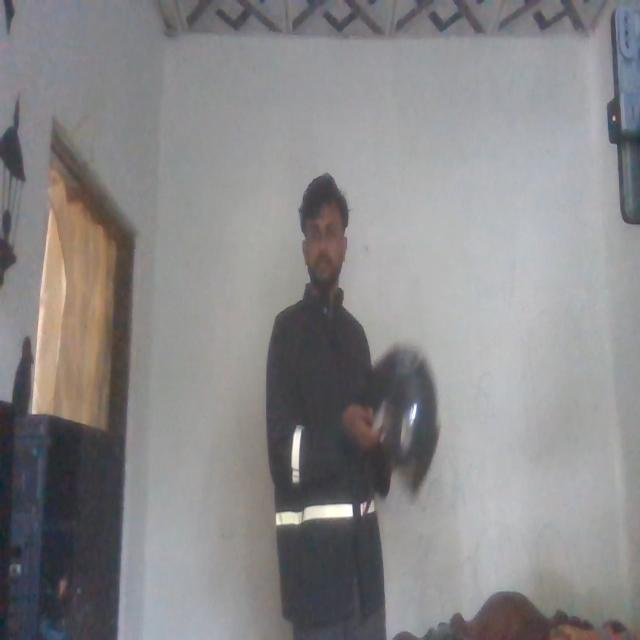Jacket_Wearer: (268, 285, 388, 617)
Person: (266, 171, 395, 640)
